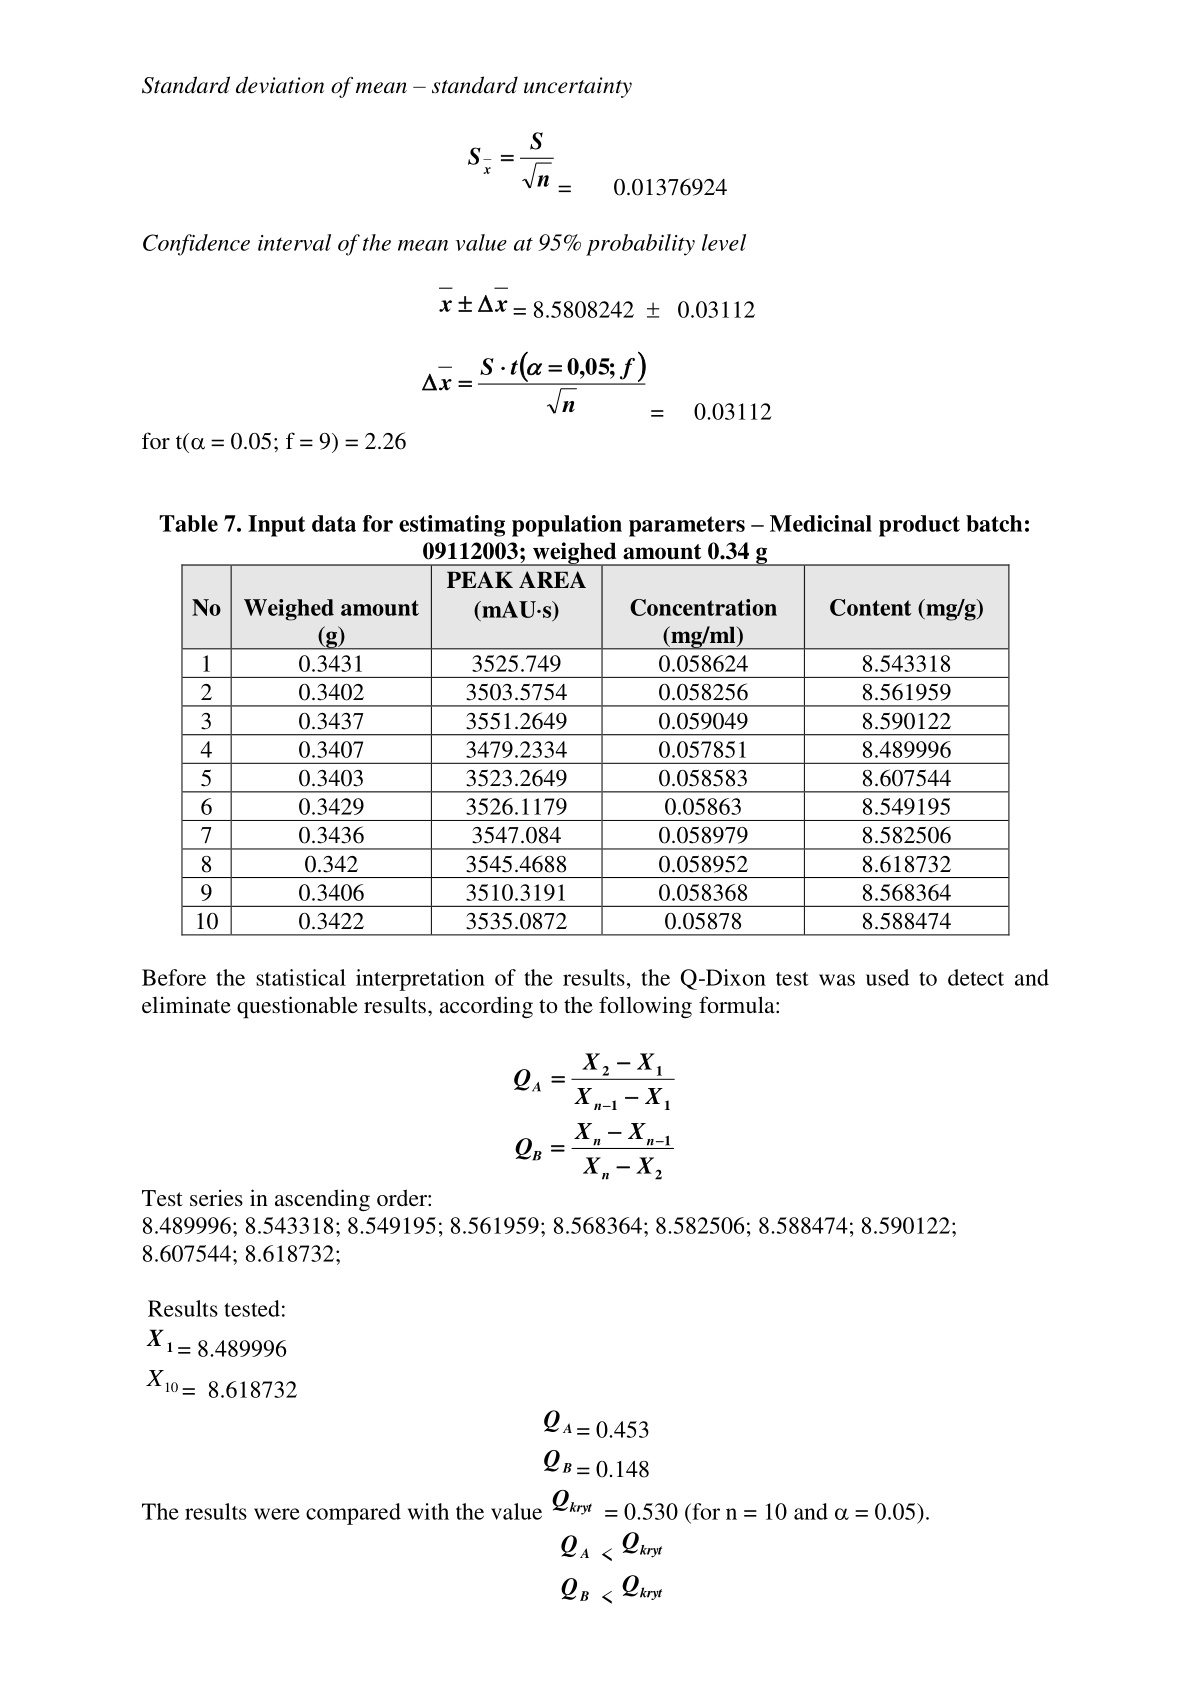full_lined: (180, 563, 1011, 935)
